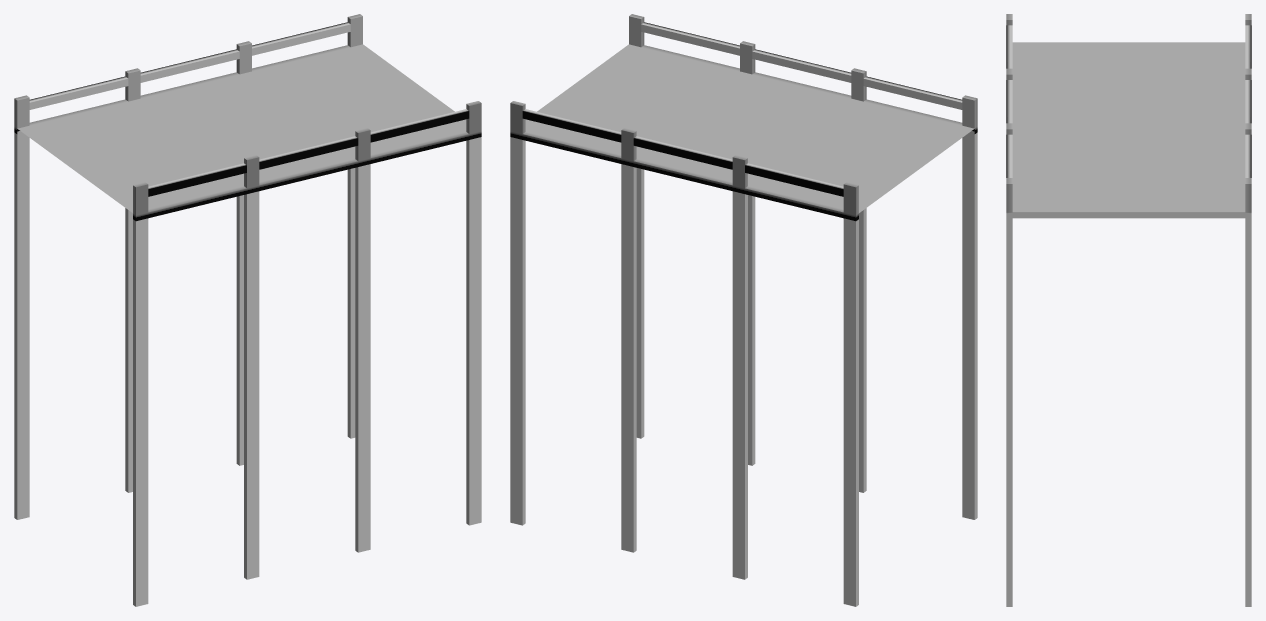
File: BridgeFirst.fbx
3 views of the same model, side by side, from view 1: azimuth 30°, elevation 25°; view 2: azimuth 150°, elevation 25°; view 3: azimuth 270°, elevation 25° (orthographic).
Visible parts, largest first — view 1: First; view 2: First; view 3: First.
Boxes of the visible parts, x1,y1,x2,y2 form: First: (14,14,481,606); First: (510,14,977,606); First: (1006,14,1251,606).
Size of the model in its own units: 379 by 439 by 231.
Materials: 1 (1 with a texture image).
